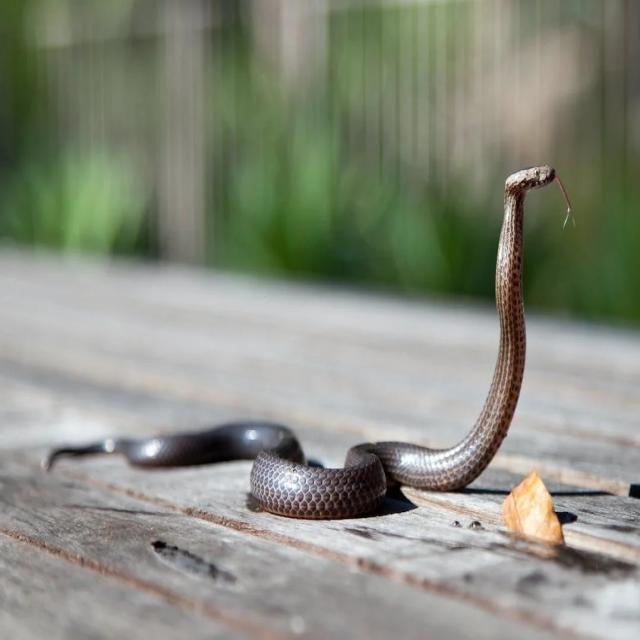Snake: (29, 133, 574, 557)
